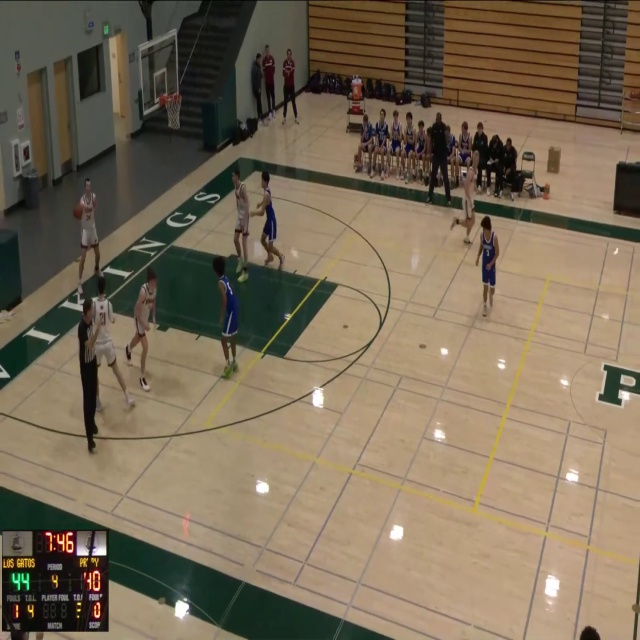Basketball: (73, 205, 83, 219)
